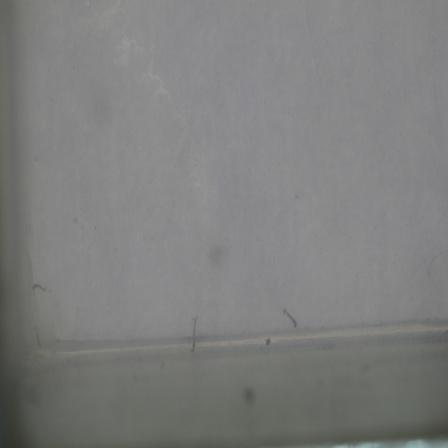Jentik-Nyamuk: (186, 310, 203, 357)
